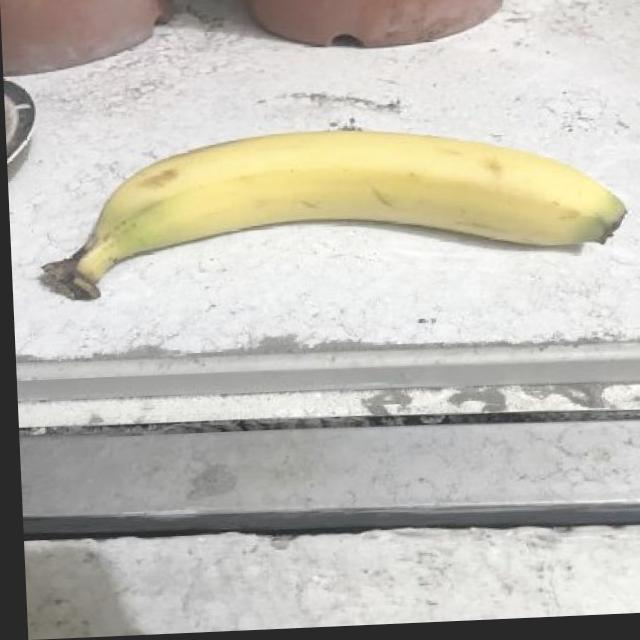banana: (35, 111, 630, 306)
